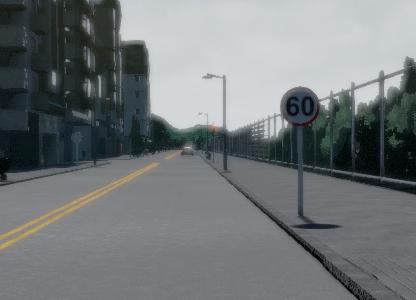Speed_60: (279, 82, 320, 128)
